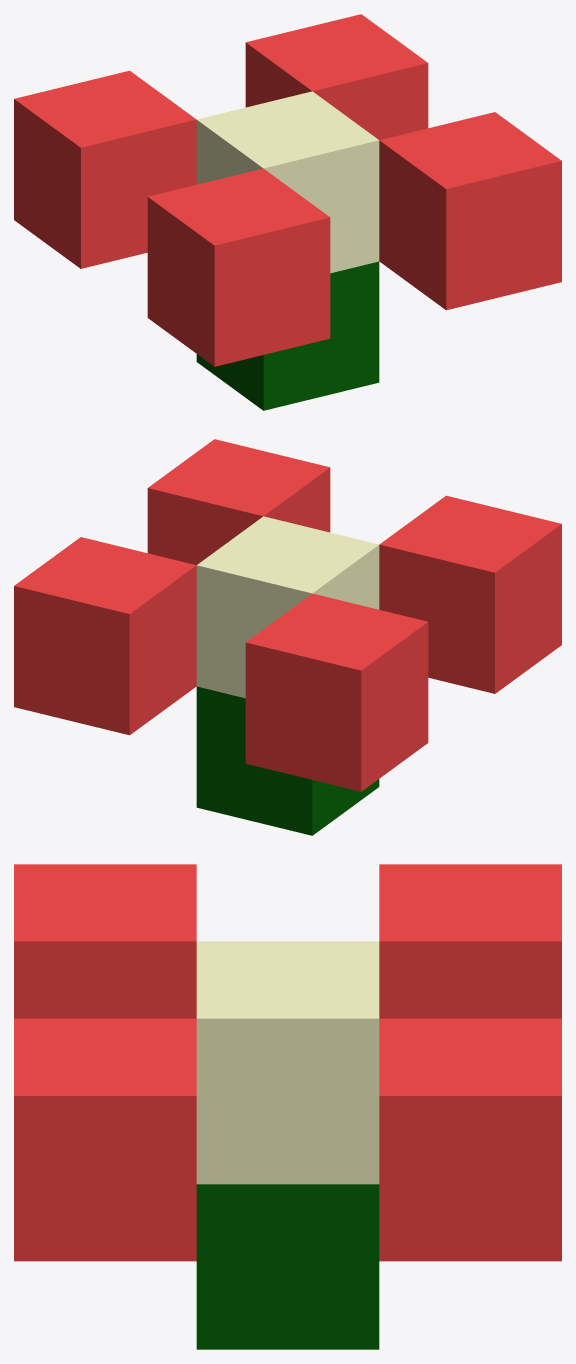
File: flower3.dae
3 views of the same model, one above another, from view 1: azimuth 30°, elevation 25°; view 2: azimuth 150°, elevation 25°; view 3: azimuth 270°, elevation 25° (orthographic). The views are drawn at different scales.
Visible parts, largest first — view 1: flower3; view 2: flower3; view 3: flower3.
Part boxes in pixels (x1,y1,x2,y2): flower3: (14,14,561,410); flower3: (14,439,561,835); flower3: (14,864,561,1349).
Bounding box in the file's own units: 0.3 × 0.3 × 0.2.
1 material, 1 textured.
